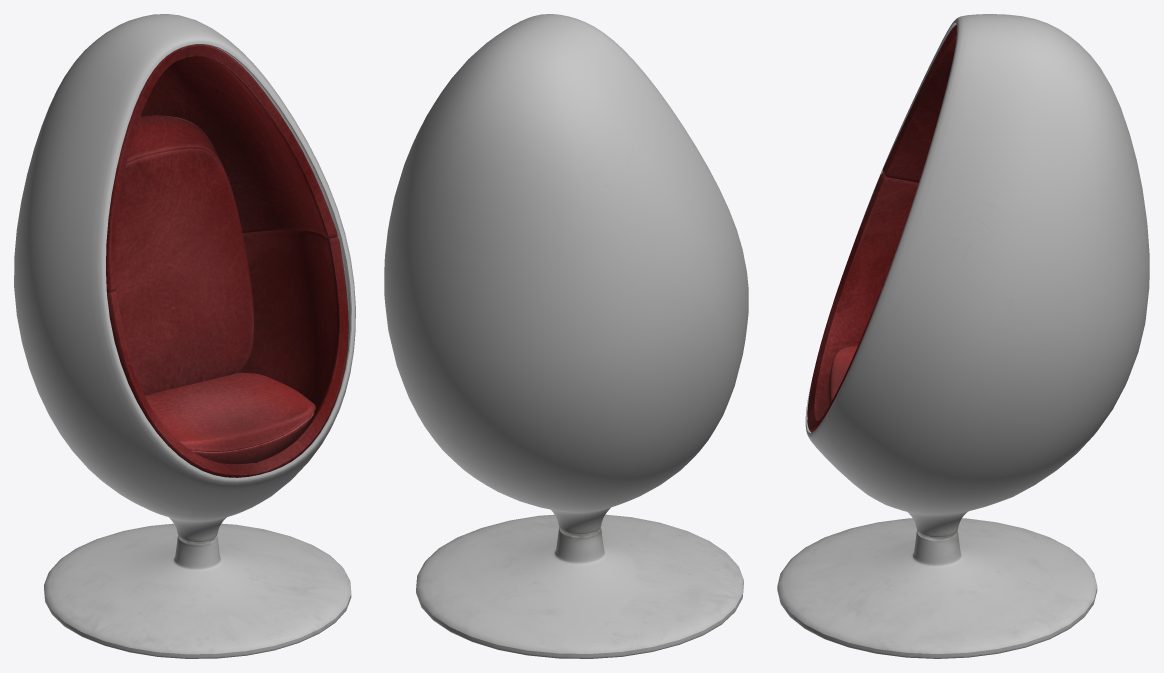
File: Egg.glb
3 views of the same model, side by side, from view 1: azimuth 30°, elevation 25°; view 2: azimuth 150°, elevation 25°; view 3: azimuth 270°, elevation 25° (orthographic). The views are drawn at different scales.
Parts seen in each view (by area): view 1: Object027_03 Egg-chair_0; view 2: Object027_03 Egg-chair_0; view 3: Object027_03 Egg-chair_0.
Boxes of the visible parts, left/top/right/bottom form: Object027_03 Egg-chair_0: left=14, top=14, right=355, bottom=658; Object027_03 Egg-chair_0: left=384, top=14, right=748, bottom=658; Object027_03 Egg-chair_0: left=777, top=14, right=1149, bottom=658.
Bounding box in the file's own units: 0.7242 × 1.3 × 0.7692.
Materials: 1 (1 with a texture image).
